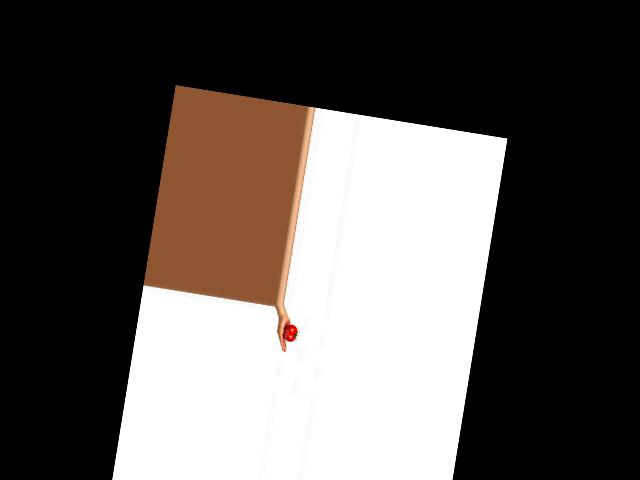tomato: (281, 323, 298, 342)
